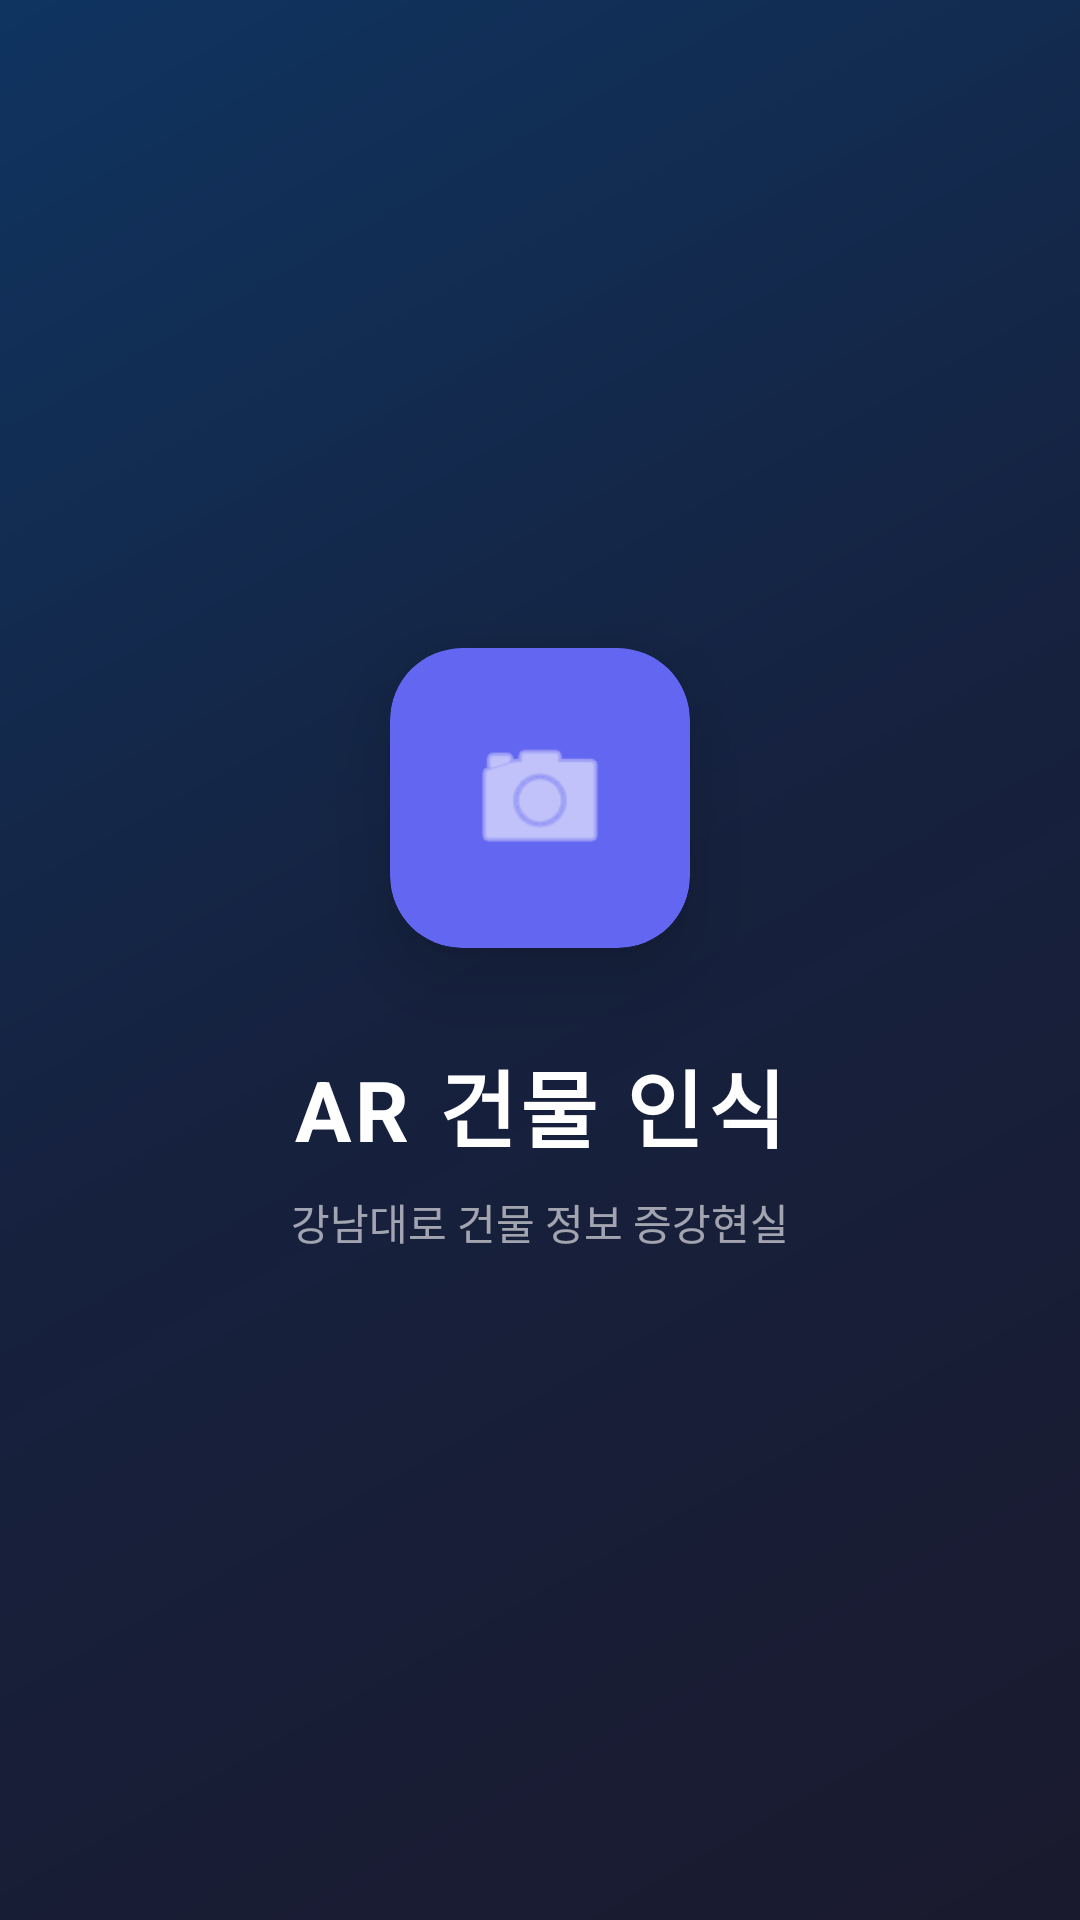

Named icons in this screenshot (1080px x 1920px) and their bounding boxes, bbox(x1, y1, x2, y2):
camera: bbox(482, 750, 598, 842)
